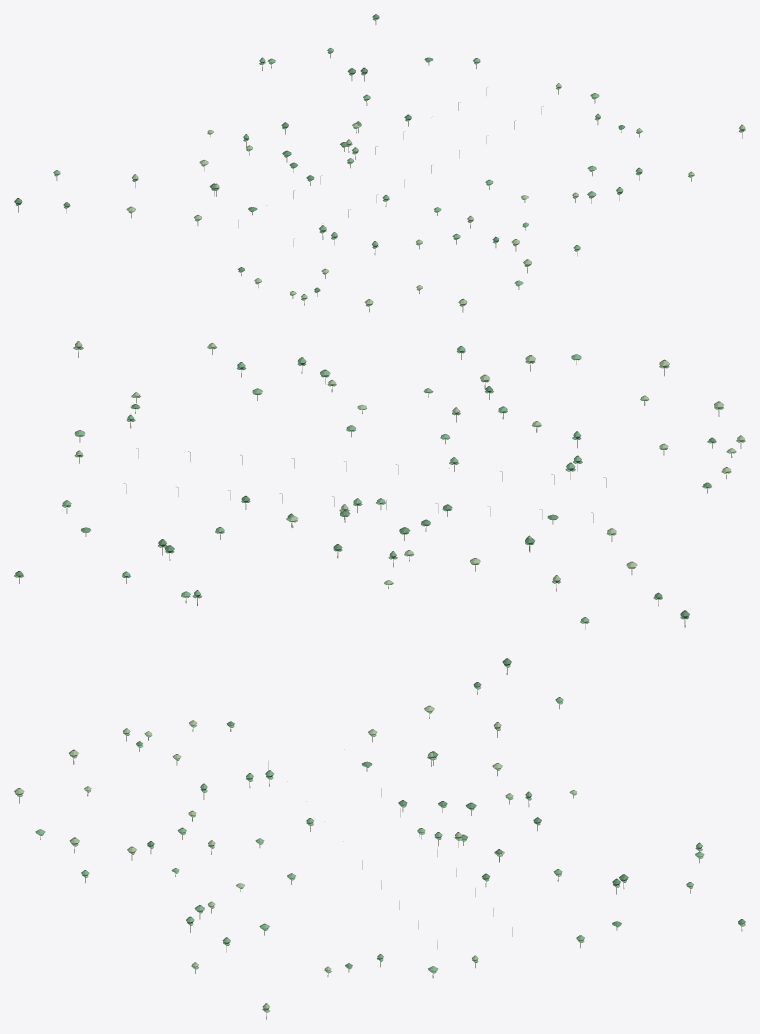
3 views of the same model, one above another, from view 1: azimuth 30°, elevation 25°; view 2: azimuth 150°, elevation 25°; view 3: azimuth 270°, elevation 25° (orthographic). The views are drawn at different scales.
Parts seen in each view (by area): view 1: Kazipara neighborhood furniture (approximate); view 2: Kazipara neighborhood furniture (approximate); view 3: Kazipara neighborhood furniture (approximate).
Part boxes in pixels (left/top/right/bottom): Kazipara neighborhood furniture (approximate): left=14, top=14, right=745, bottom=312; Kazipara neighborhood furniture (approximate): left=14, top=341, right=745, bottom=629; Kazipara neighborhood furniture (approximate): left=14, top=658, right=745, bottom=1019.
Bounding box in the file's own units: 570 × 12.3 × 505.
